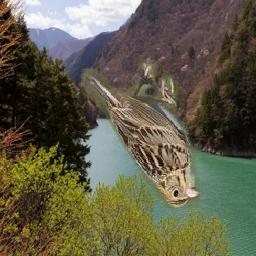Sparrow: (82, 60, 201, 208)
